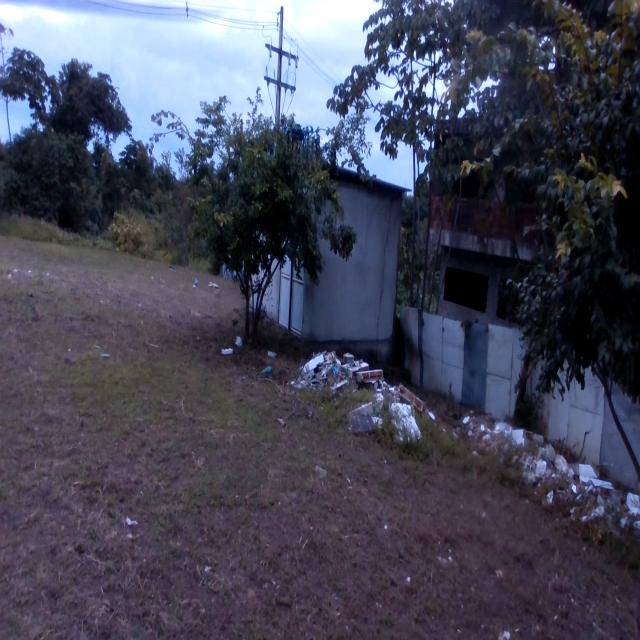-uav-: (280, 111, 316, 169)
